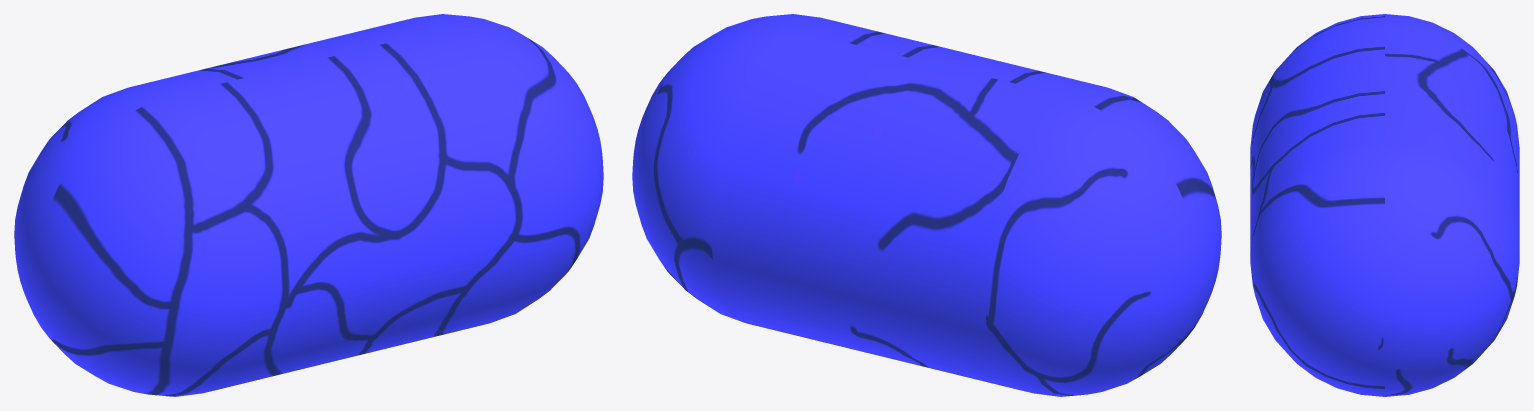
File: block_blue2.glb
3 views of the same model, side by side, from view 1: azimuth 30°, elevation 25°; view 2: azimuth 150°, elevation 25°; view 3: azimuth 270°, elevation 25° (orthographic). The views are drawn at different scales.
Visible parts, largest first — view 1: Sphere; view 2: Sphere; view 3: Sphere.
Boxes of the visible parts, box(x1,y1,x2,y2) form: Sphere: box(14, 14, 603, 396); Sphere: box(632, 14, 1221, 396); Sphere: box(1250, 14, 1519, 396).
Size of the model in its own units: 2 by 1 by 1.
1 material, 1 textured.
